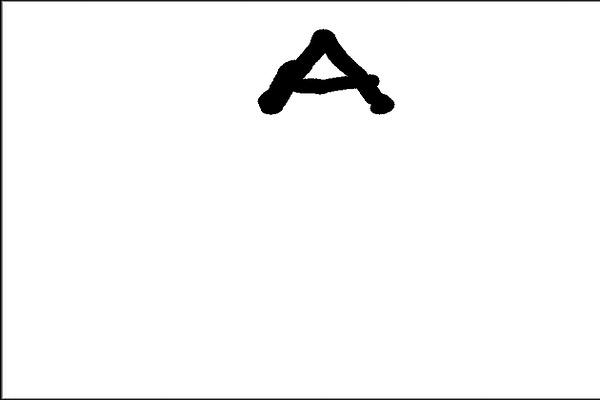A: (253, 25, 397, 122)
